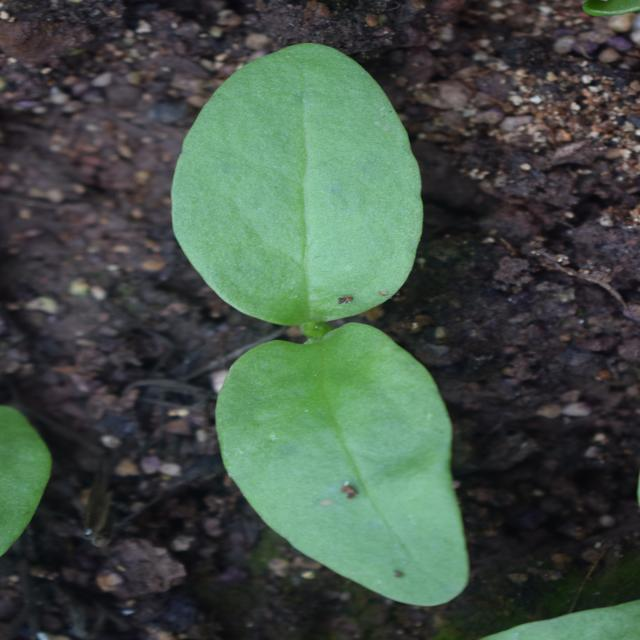Ceylon spinach: (43, 178, 600, 511)
